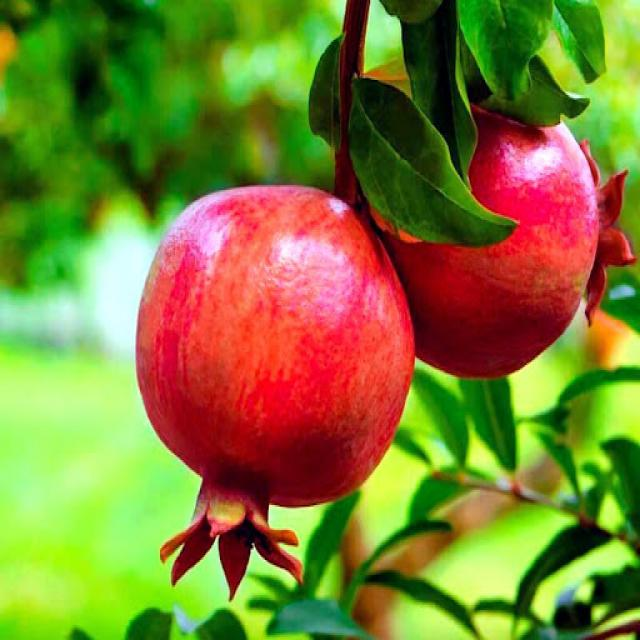pomegranate: (134, 185, 416, 602), (413, 86, 638, 382)
